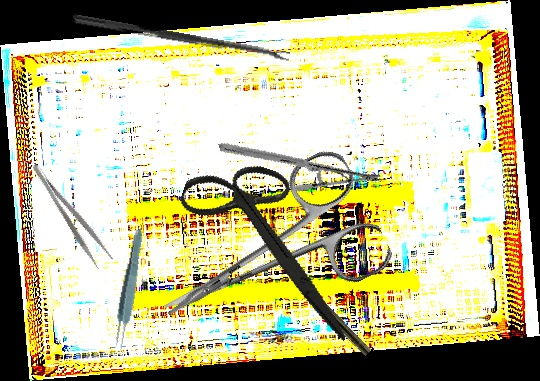Dressing Forceps: (29, 156, 115, 271)
Handpiece: (258, 238, 373, 357)
Iris Scissors: (134, 143, 397, 366), (154, 145, 389, 341)
Needle Holder: (218, 99, 382, 226)
Surgical Spoon: (71, 13, 291, 63)
Tissue Forceps: (110, 227, 147, 352)
